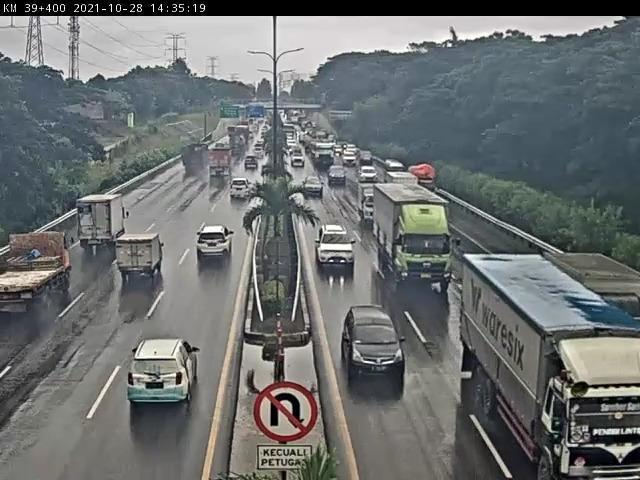car: (105, 328, 215, 416), (332, 306, 410, 386), (108, 227, 174, 297), (183, 221, 245, 270), (318, 218, 360, 276), (354, 186, 384, 225), (224, 182, 254, 210), (300, 168, 327, 195), (323, 159, 349, 185)
truck: (453, 244, 640, 480), (371, 182, 452, 292), (537, 230, 640, 313), (3, 238, 76, 344), (61, 189, 131, 255), (172, 142, 208, 185), (210, 146, 234, 189)
